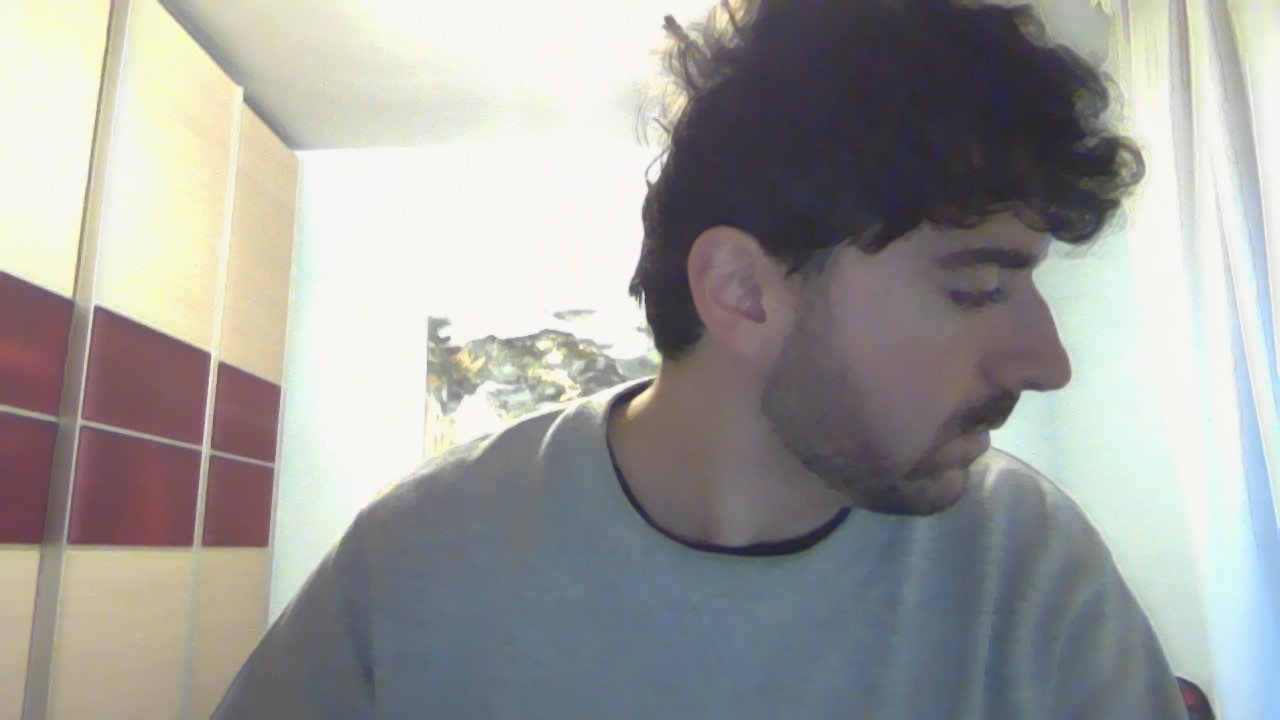NoGlasses: (805, 238, 1067, 324)
